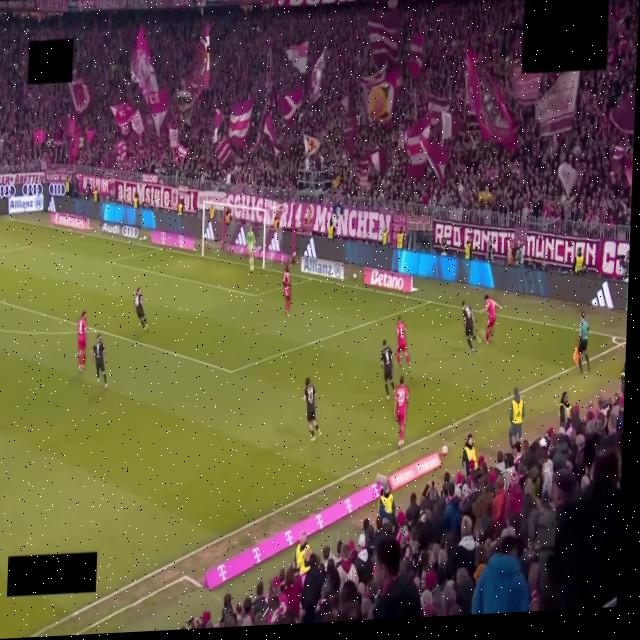player: (304, 377, 321, 441), (394, 376, 408, 449), (481, 294, 501, 344), (462, 301, 479, 352), (381, 339, 395, 400), (92, 335, 107, 388), (397, 316, 411, 370), (134, 288, 148, 329), (78, 311, 86, 370), (247, 226, 255, 270), (283, 266, 290, 316)
